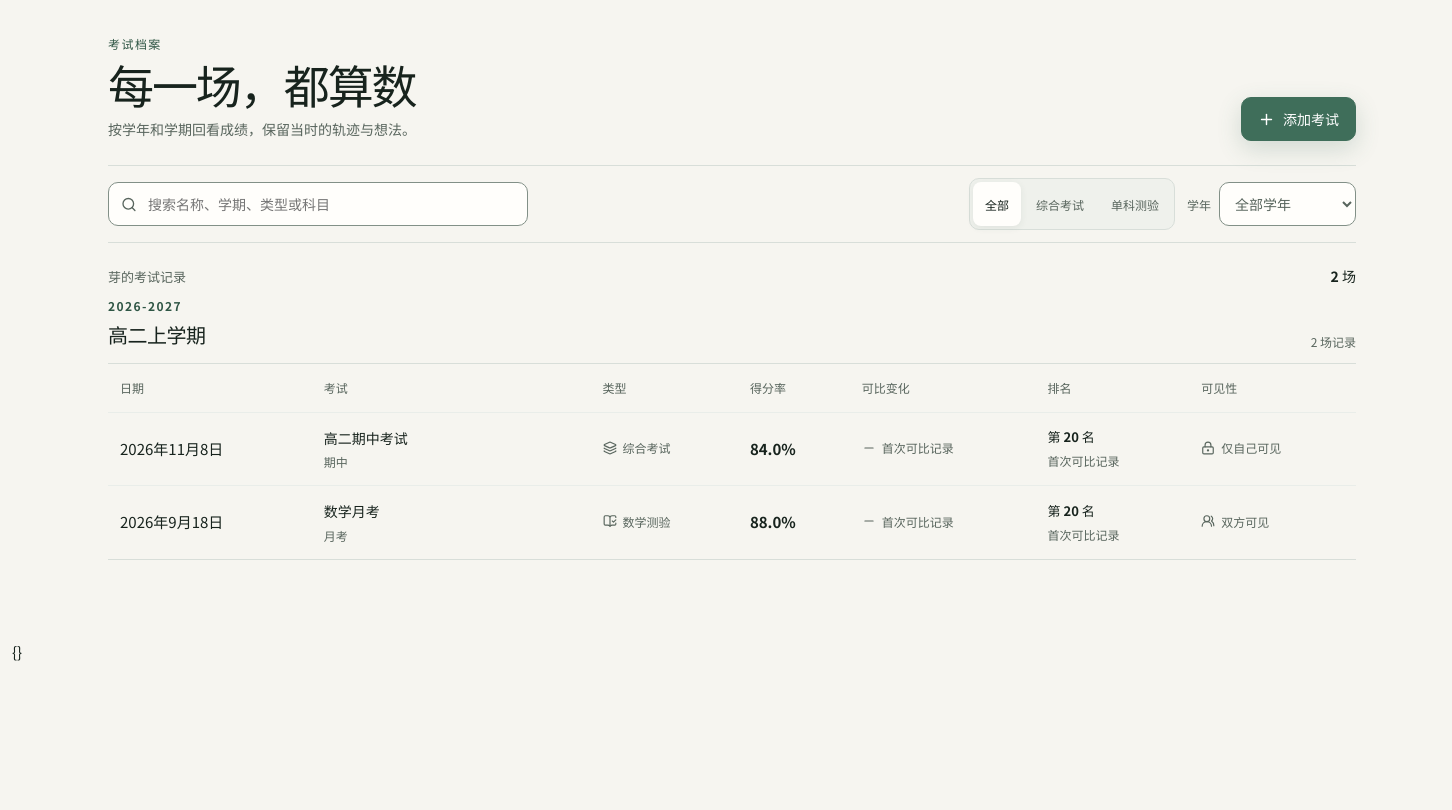
ExamsPage › writes search and kind changes back to the URL
Type "月考" into the search field at (330, 204), box [146,192,515,217]
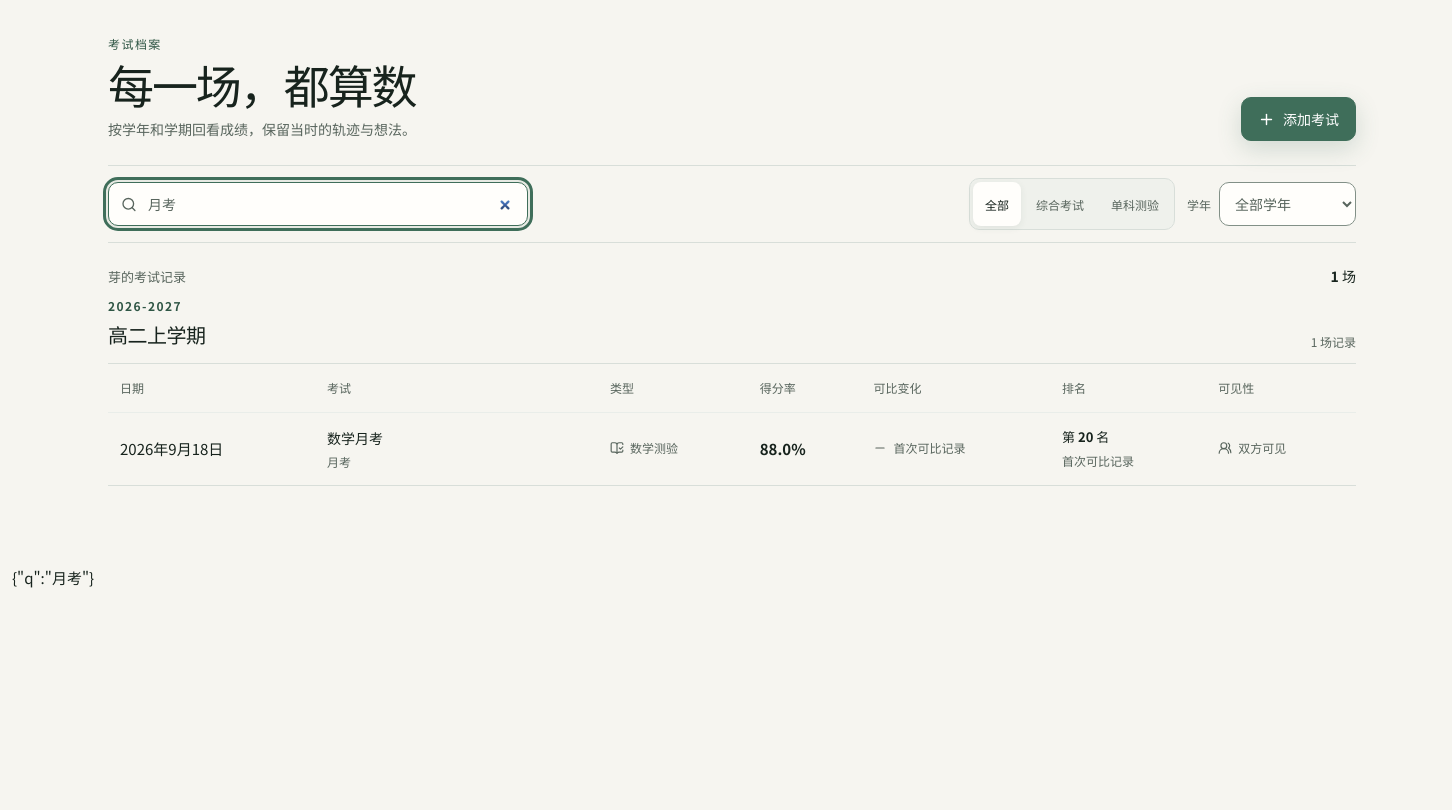
Expected: the link "数学月考 月考" is shown, [327,428,383,470]
Result: the text with test id "location" shows "\"q\":\"月考\"" at [12,567,94,588]
Click the button "单科测验" at (1135, 204), box [1099,182,1171,226]
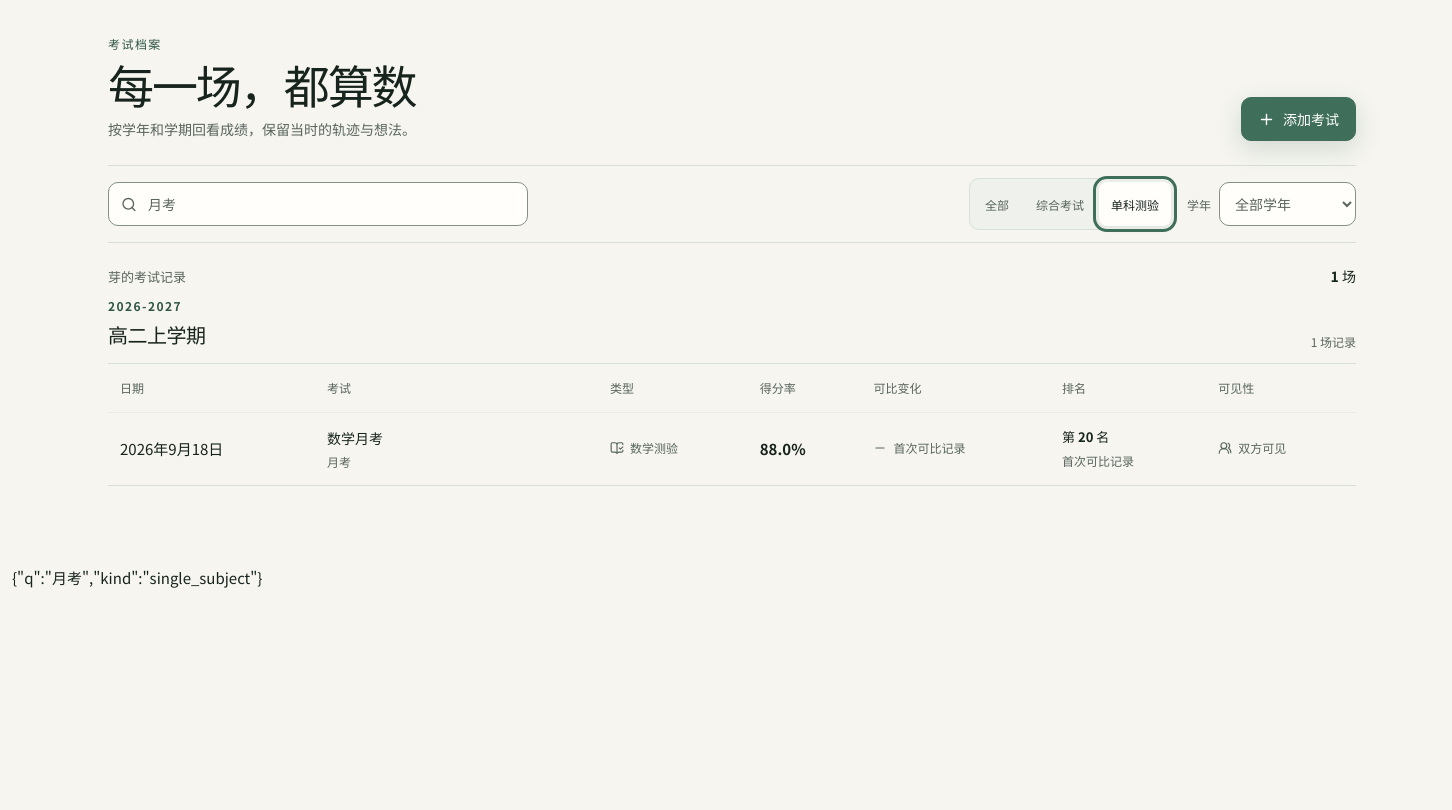
Expected: the text "双方可见" is shown, [1218,438,1286,457]
Result: the text with test id "location" shows "\"kind\":\"single_subject\"" at [12,567,262,588]
